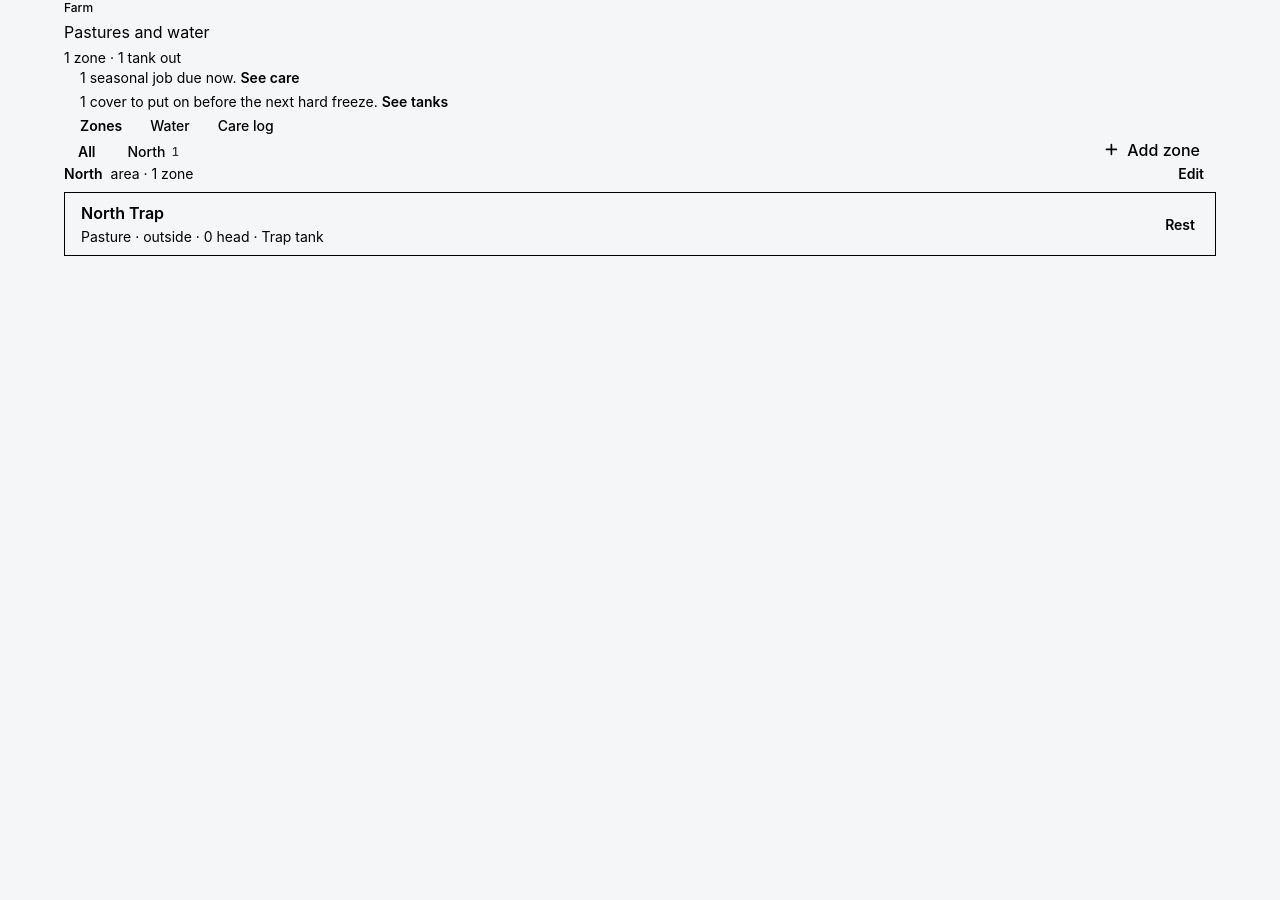
Test case: zones › keeps delete in the editor, behind the typed confirmation
The image size is (1280, 900).
Click the button with aria-label "Edit North Trap" at (123, 213), box [65,193,1153,255]
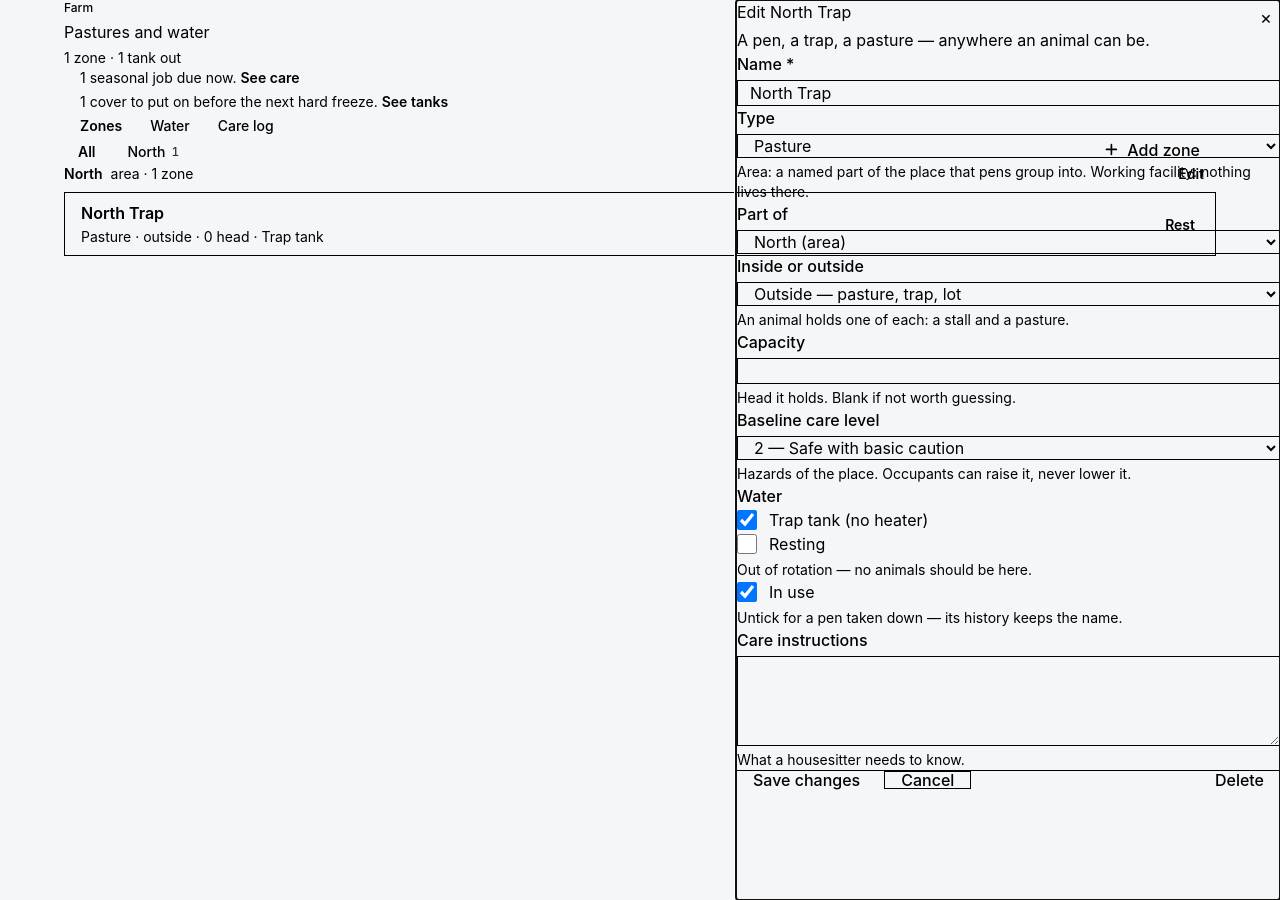
Click the button "Delete" at (1239, 780), box [1199,771,1279,789]
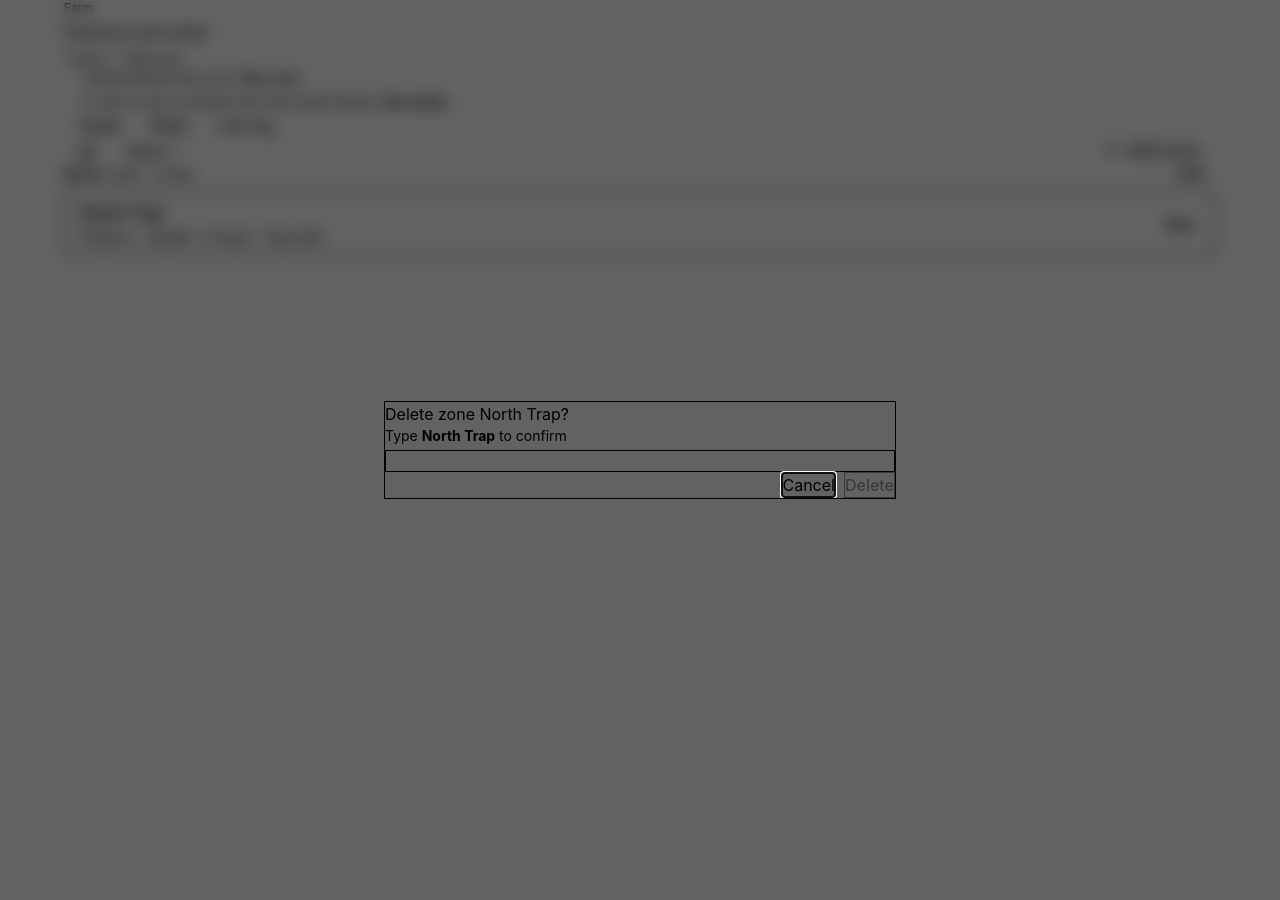
Now the dialog is shown, box [384,401,896,499]
